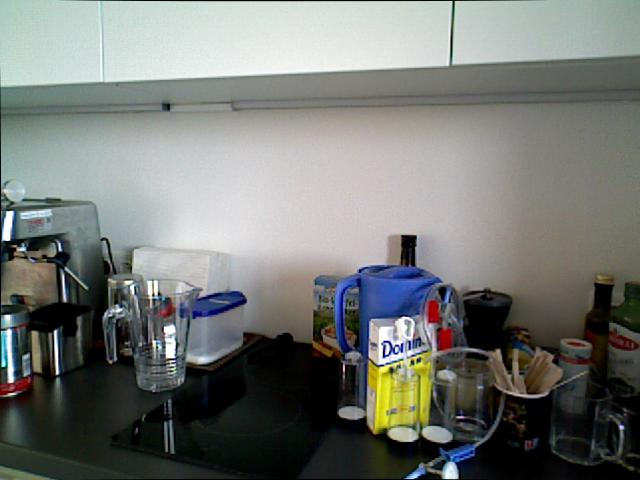bench: (391, 232, 427, 371), (606, 281, 639, 401), (583, 273, 615, 383)
bird: (320, 322, 359, 353)
handbag: (332, 260, 444, 408), (102, 278, 203, 393), (548, 377, 628, 466), (492, 367, 561, 453), (445, 354, 496, 444), (386, 363, 420, 442), (425, 366, 457, 447), (335, 350, 366, 421)
